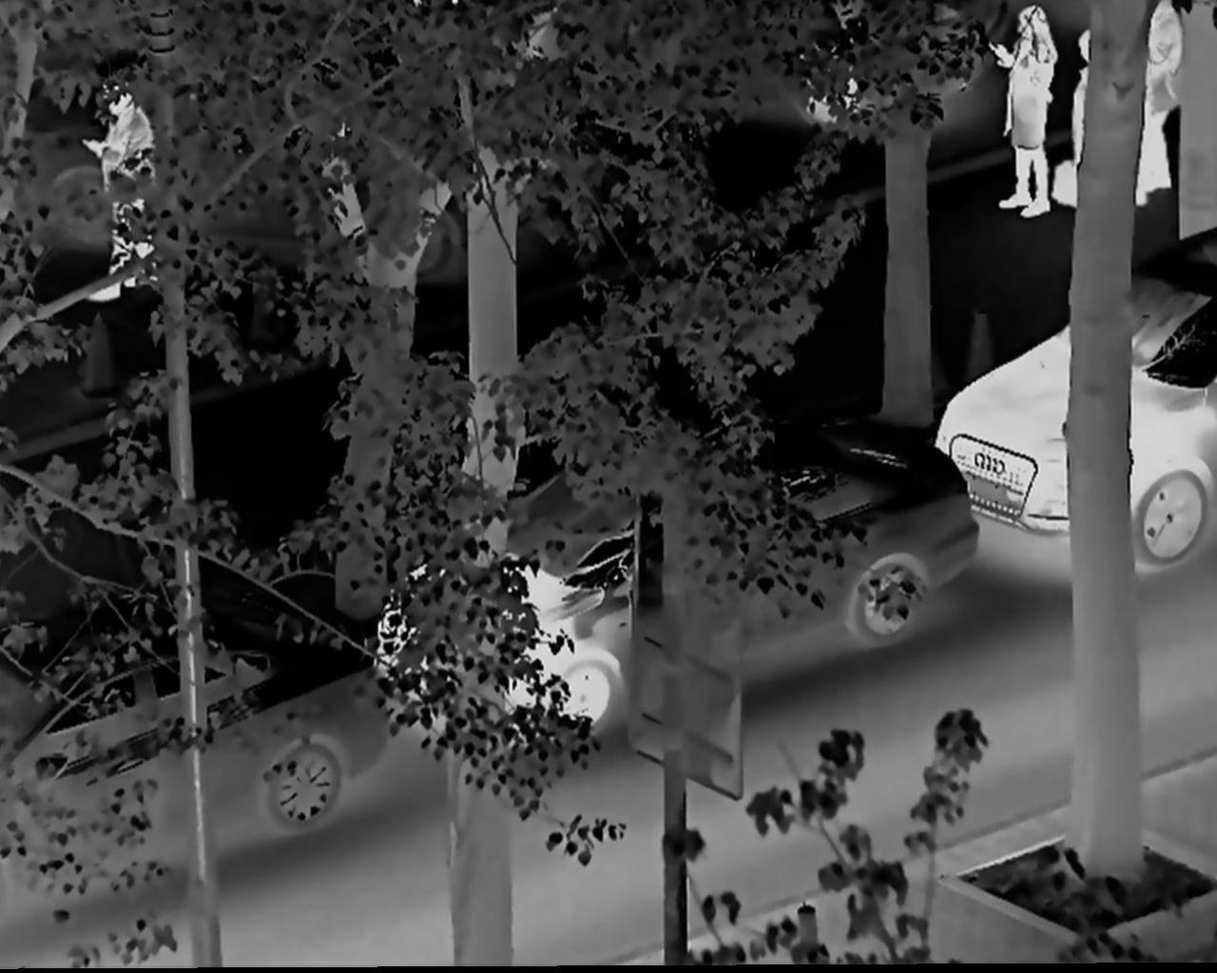person: (67, 83, 165, 310), (981, 2, 1062, 224)
